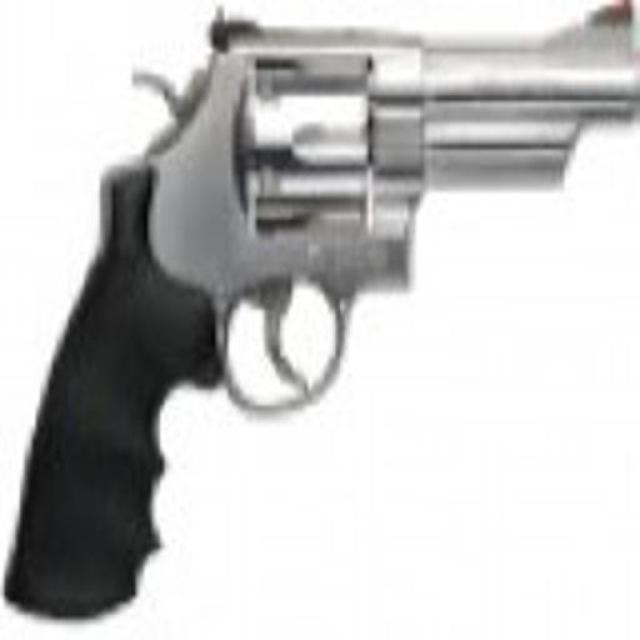pistol: (3, 10, 631, 617)
